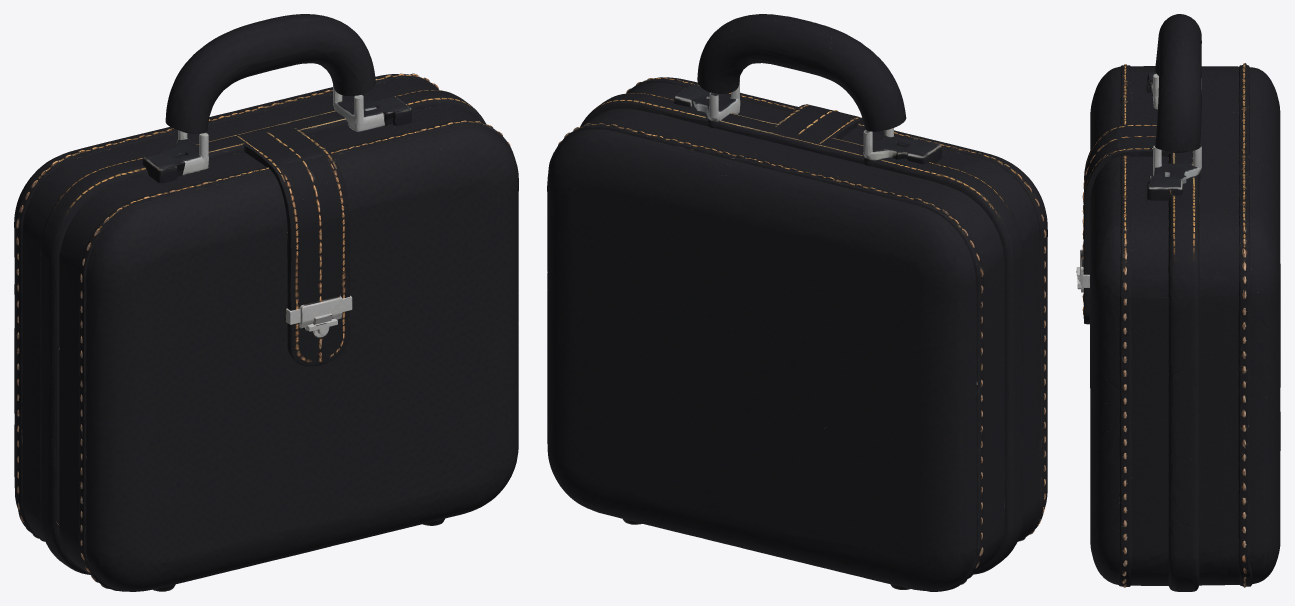
File: t4-obsidian.original.glb
3 renders of one model, left to right at view 1: azimuth 30°, elevation 25°; view 2: azimuth 150°, elevation 25°; view 3: azimuth 270°, elevation 25°, orthographic. The views are drawn at different scales.
Parts seen in each view (by area): view 1: mesh_node; view 2: mesh_node; view 3: mesh_node.
Part boxes in pixels (<box>): mesh_node: <box>14,14,518,591</box>; mesh_node: <box>547,14,1047,591</box>; mesh_node: <box>1076,14,1280,591</box>.
Size of the model in its own units: 1.72 by 1.9 by 0.7304.
Materials: 1 (1 with a texture image).
